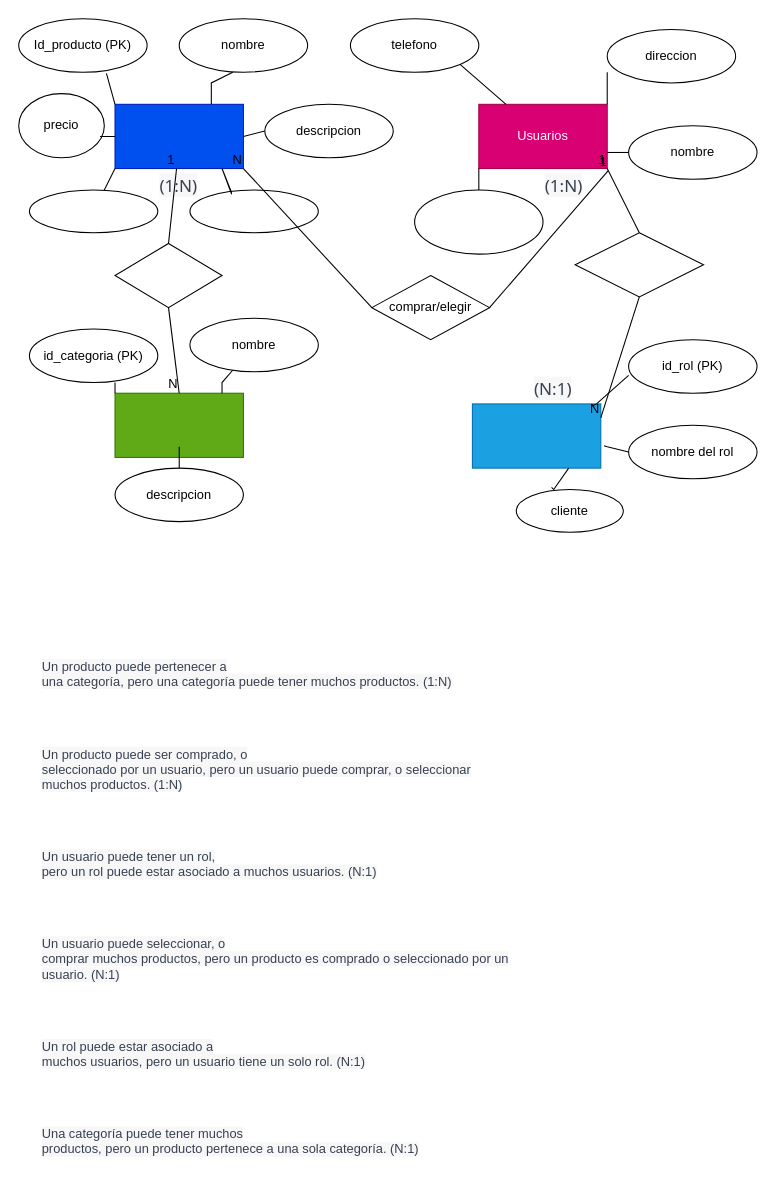
Some shapes in this 776 by 1204 pixel diagram are drawn without their labels. Here are the shapes that lost their labels. From the top down, the box of each, then its label:
(114, 103, 243, 169): Producto
(28, 189, 158, 233): stock
(189, 189, 318, 233): proveedor
(414, 189, 543, 254): Id_usuarios (PK)
(114, 242, 222, 308): pertenecer
(574, 232, 704, 297): tener
(114, 392, 243, 457): Categoria
(471, 403, 601, 468): Rol
